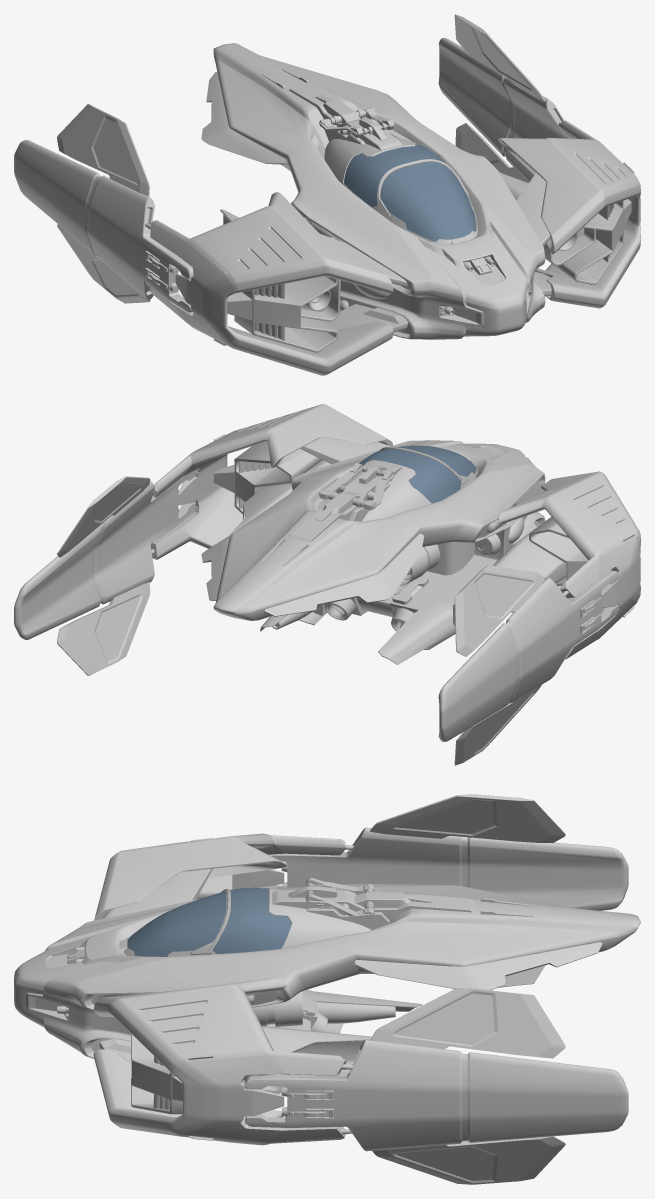
File: RAIDER Fighter8.fbx
The picture shows the model from 3 angles, top to bottom: view 1: azimuth 30°, elevation 25°; view 2: azimuth 150°, elevation 25°; view 3: azimuth 270°, elevation 25°; orthographic projection. The views are drawn at different scales.
Parts seen in each view (by area): view 1: Raider_Fighter.107, Raider_Fighter, Raider_Fighter.018, Glass_Raider, Glass_Raider.001; view 2: Raider_Fighter, Raider_Fighter.018, Raider_Fighter.107, Glass_Raider.001, Glass_Raider; view 3: Raider_Fighter.018, Raider_Fighter, Raider_Fighter.107, Glass_Raider, Glass_Raider.001.
Boxes of the visible parts, box(x1,y1,x2,y2) form: Raider_Fighter.107: box(14, 104, 411, 375); Raider_Fighter: box(201, 43, 545, 339); Raider_Fighter.018: box(438, 14, 640, 308); Glass_Raider: box(380, 162, 475, 241); Glass_Raider.001: box(344, 144, 445, 207); Raider_Fighter: box(201, 440, 545, 664); Raider_Fighter.018: box(14, 404, 392, 675); Raider_Fighter.107: box(438, 471, 640, 765); Glass_Raider.001: box(359, 448, 461, 503); Glass_Raider: box(397, 445, 475, 476); Raider_Fighter.018: box(90, 978, 628, 1184); Raider_Fighter: box(14, 877, 640, 1093); Raider_Fighter.107: box(94, 794, 628, 989); Glass_Raider: box(127, 891, 226, 956); Glass_Raider.001: box(212, 887, 291, 954).
Bounding box in the file's own units: 894 × 358 × 1017.
